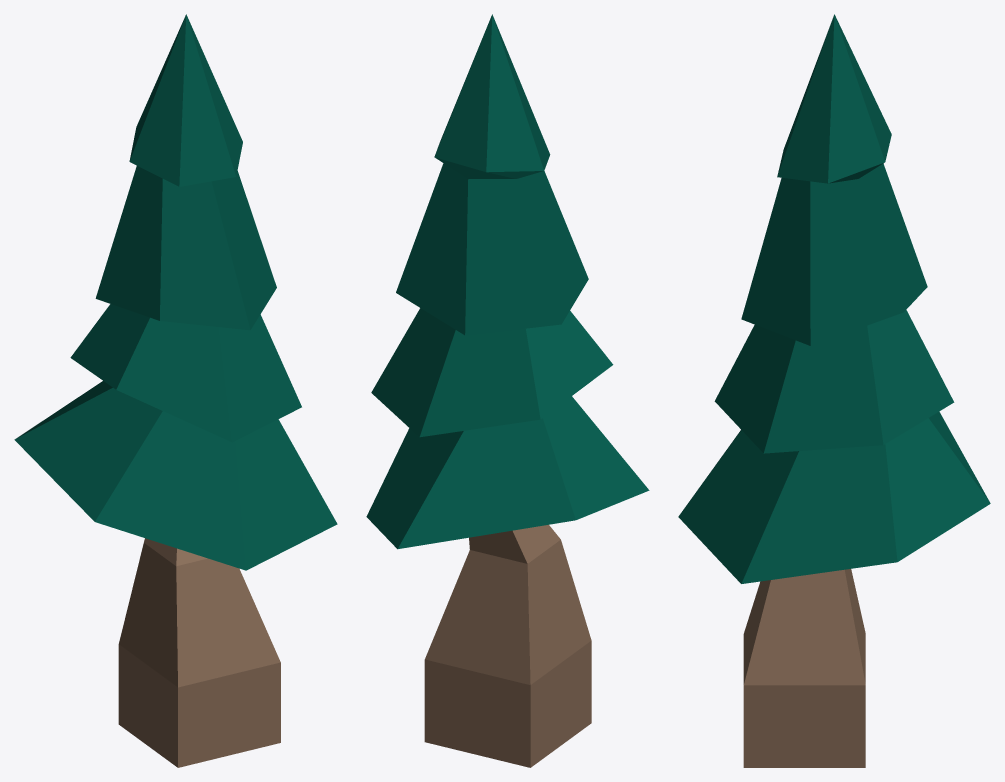
Rendered from Pine_02_Mesh.fbx.
The picture shows the model from 3 angles, left to right: view 1: azimuth 30°, elevation 25°; view 2: azimuth 150°, elevation 25°; view 3: azimuth 270°, elevation 25°; orthographic projection. The views are drawn at different scales.
Visible parts, largest first — view 1: Pine.002_LOD0; view 2: Pine.002_LOD0; view 3: Pine.002_LOD0.
Part boxes in pixels (box(x1,y1,x2,y2)): Pine.002_LOD0: box(14, 14, 337, 767); Pine.002_LOD0: box(366, 14, 649, 767); Pine.002_LOD0: box(678, 14, 990, 767).
Size of what is drawn, in the model's own units: 7311 by 21281 by 8273.
